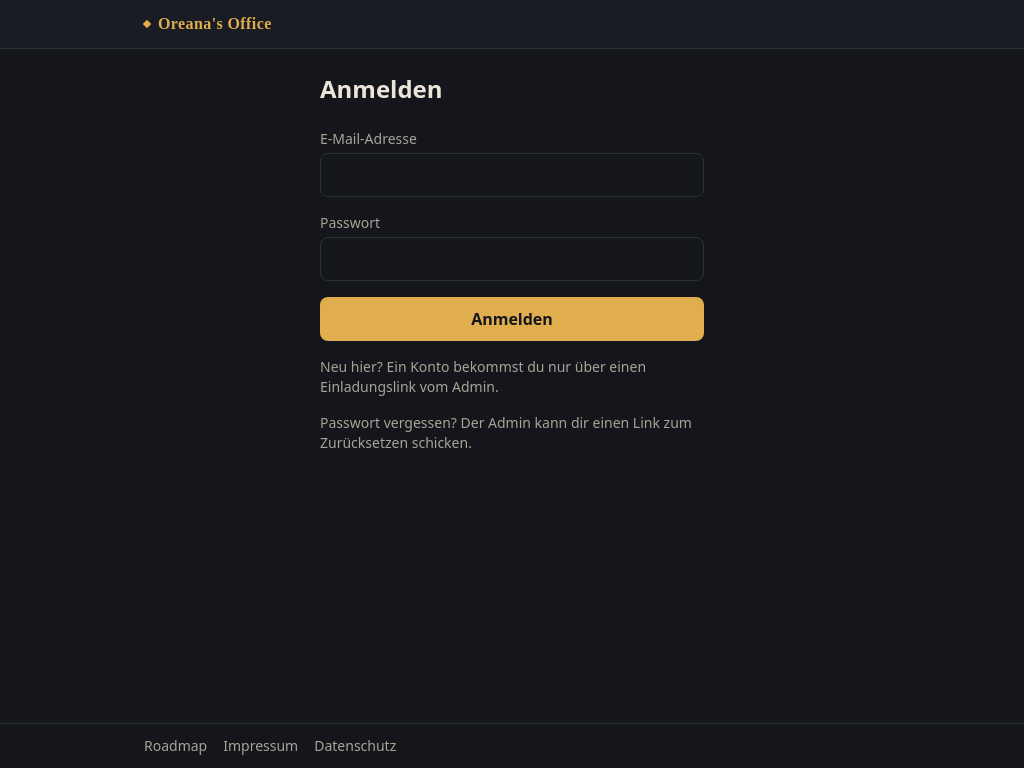
Test: SignInPage › returns to the page from ?zurueck after signing in
Type "mira@example.org" into the field labelled "E-Mail-Adresse". click: (512, 175)
box: [320, 153, 704, 197]
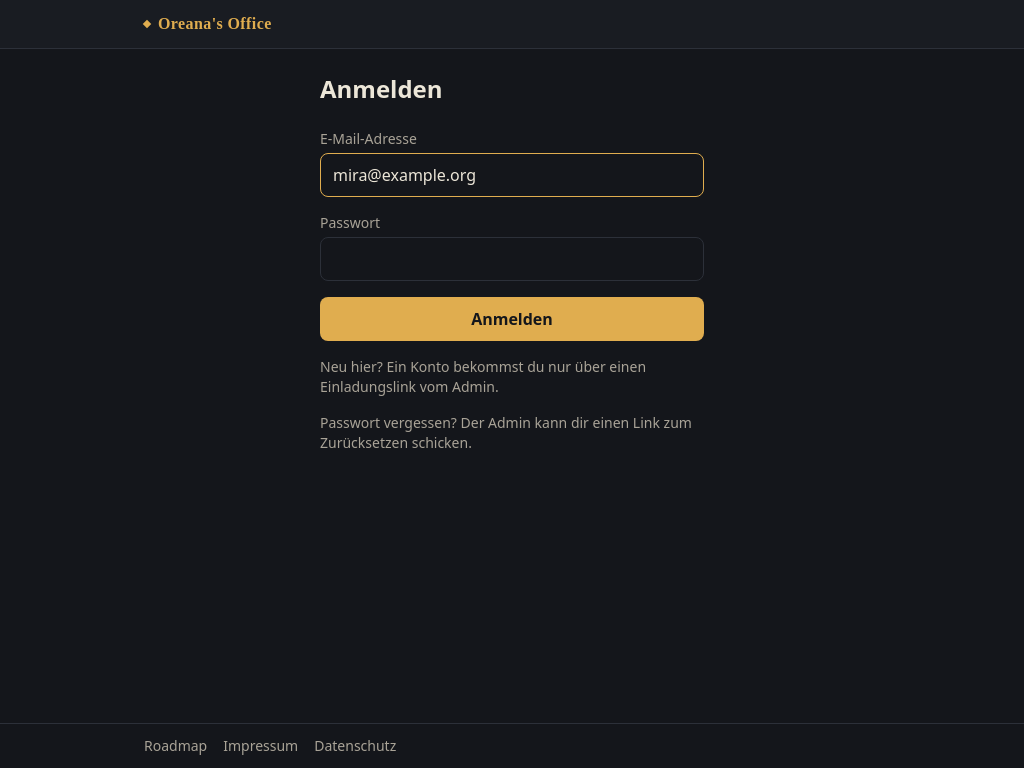
Type "geheim123" into the password field labelled "Passwort". click: (512, 259)
box: [320, 237, 704, 281]
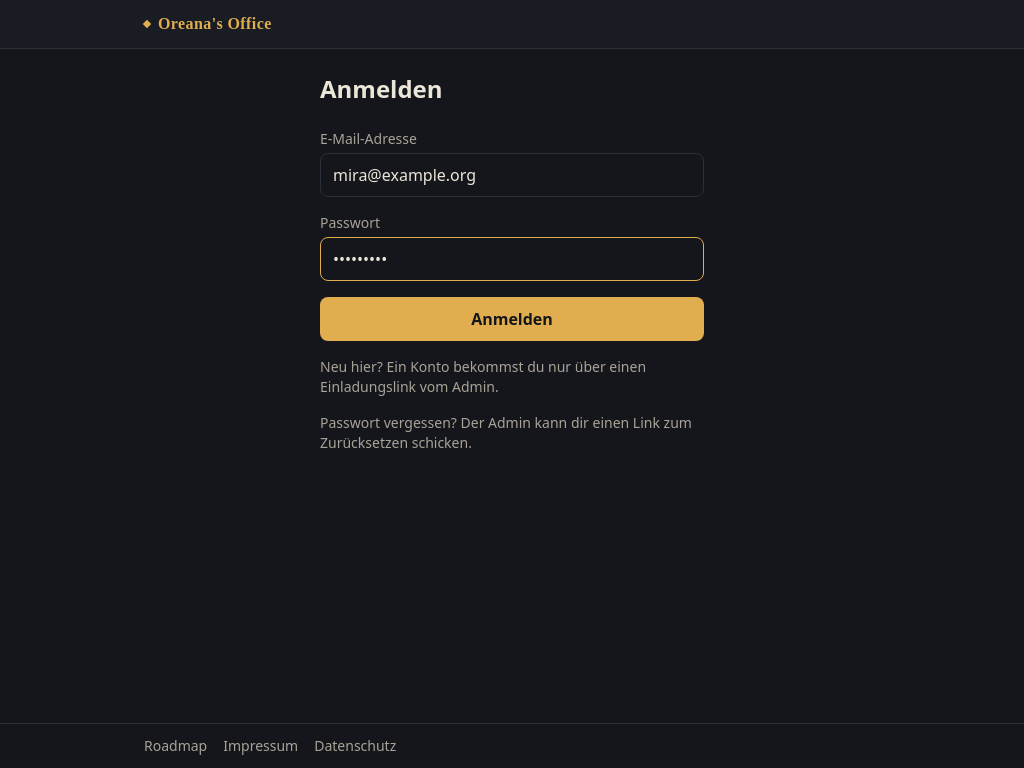
Click the button "Anmelden". click: (512, 319)
box: [320, 297, 704, 341]
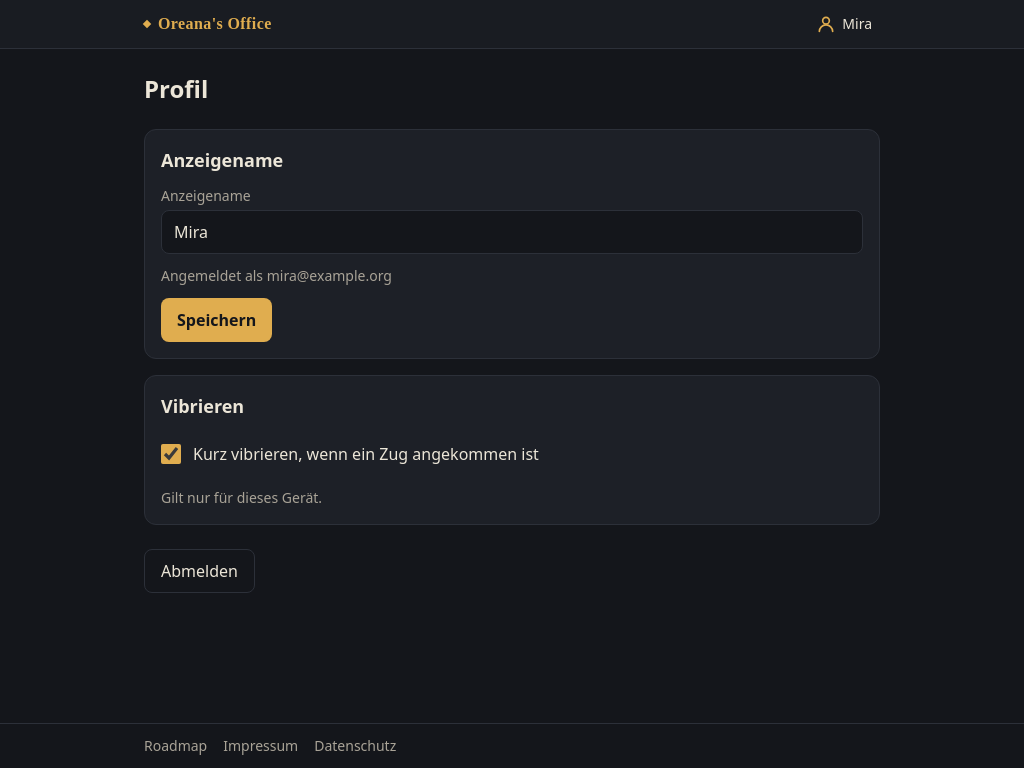
Check: the heading "Profil" is shown, box [144, 72, 208, 105]
